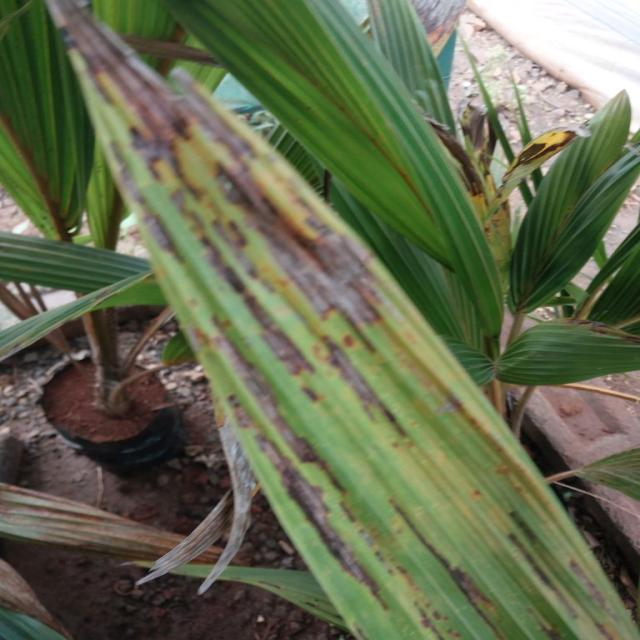gray leaf spot: (67, 18, 635, 640)
